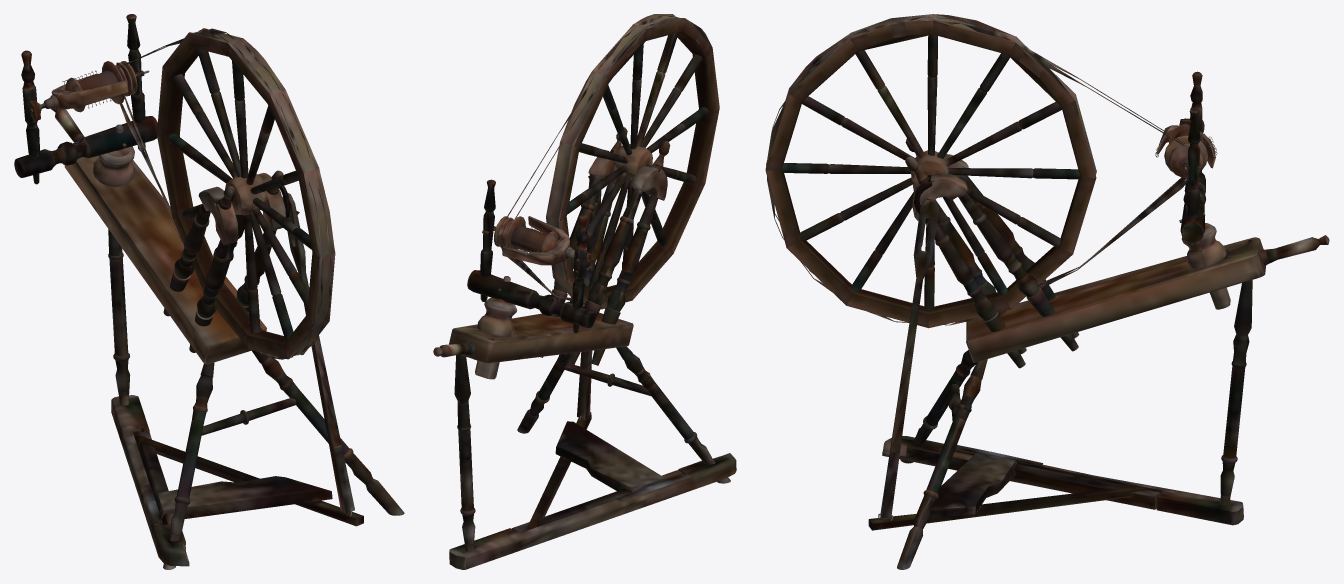
Rendered from spinning-wheel-01.glb.
3 renders of one model, left to right at view 1: azimuth 30°, elevation 25°; view 2: azimuth 150°, elevation 25°; view 3: azimuth 270°, elevation 25°, orthographic. The views are drawn at different scales.
Visible parts, largest first — view 1: spinning_wheel_01; view 2: spinning_wheel_01; view 3: spinning_wheel_01.
Part boxes in pixels (x1,y1,x2,y2): spinning_wheel_01: [14, 14, 404, 569]; spinning_wheel_01: [433, 14, 736, 569]; spinning_wheel_01: [765, 14, 1329, 569].
Size of the model in its own units: 0.4893 by 0.9662 by 1.02.
1 material, 1 textured.
